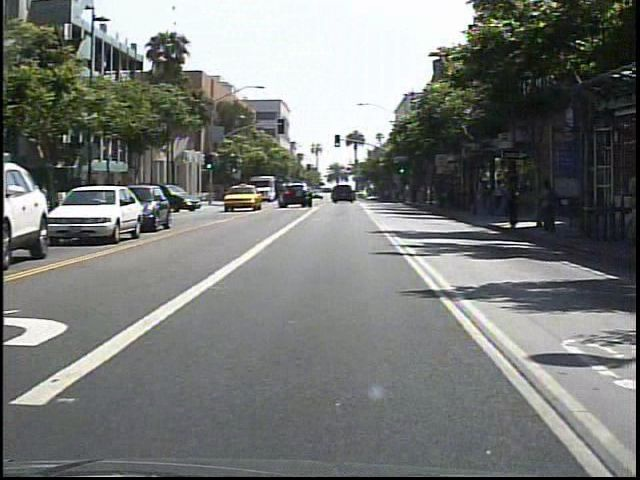person: (506, 165, 530, 233), (539, 177, 562, 241), (496, 178, 512, 218)
